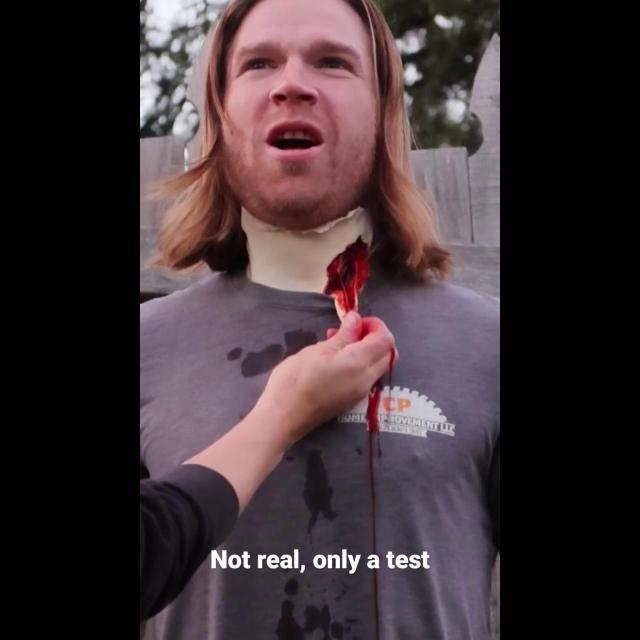blood: (324, 238, 369, 317), (366, 378, 382, 554), (374, 574, 379, 640), (390, 350, 397, 375)
